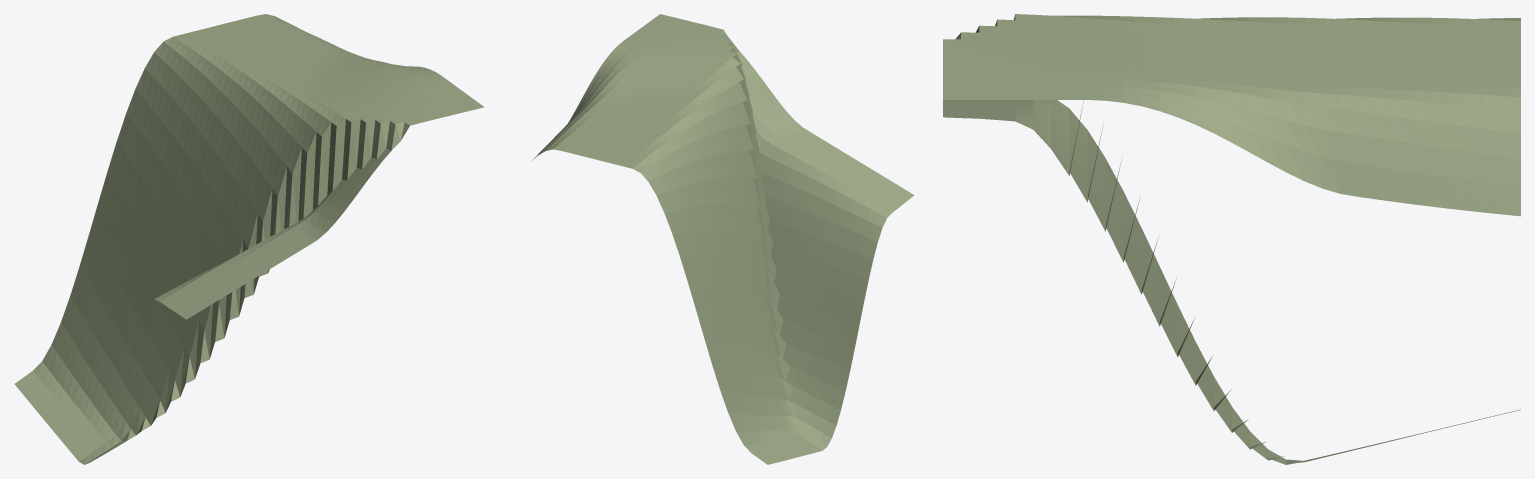
File: alpine-12-11.glb
3 renders of one model, left to right at view 1: azimuth 30°, elevation 25°; view 2: azimuth 150°, elevation 25°; view 3: azimuth 270°, elevation 25°, orthographic. The views are drawn at different scales.
Parts seen in each view (by area): view 1: alpine-12-11; view 2: alpine-12-11; view 3: alpine-12-11.
Part boxes in pixels (bbox=[...]): alpine-12-11: bbox=[14, 14, 484, 464]; alpine-12-11: bbox=[532, 14, 914, 464]; alpine-12-11: bbox=[943, 14, 1520, 464].
Bounding box in the file's own units: 256 × 296 × 256.
